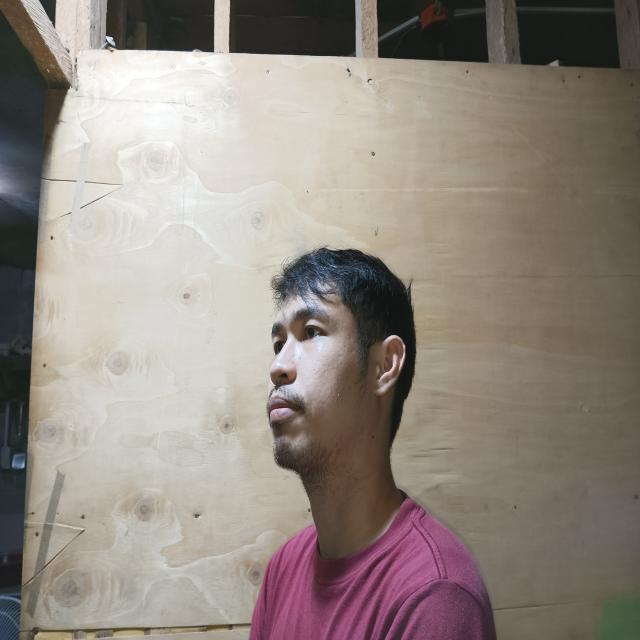Nonhelmet: (258, 244, 419, 482)
